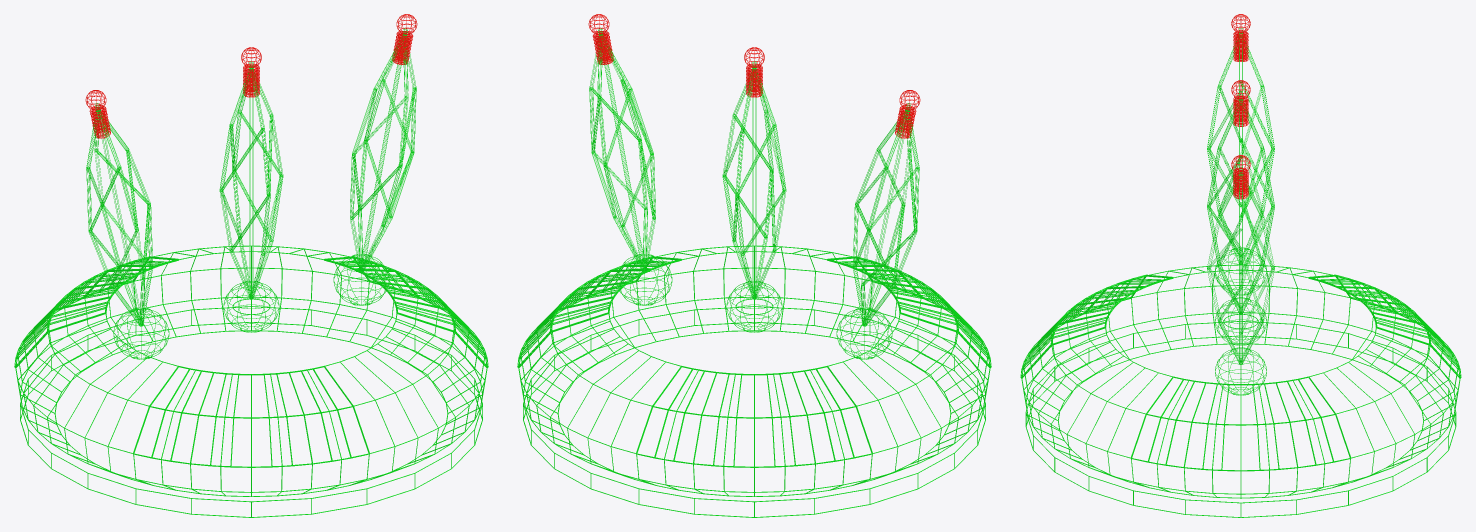
File: screen-generator-highlight-reverse-polarity-suppressers.glb
3 renders of one model, left to right at view 1: azimuth 30°, elevation 25°; view 2: azimuth 150°, elevation 25°; view 3: azimuth 270°, elevation 25°, orthographic. The views are drawn at different scales.
Parts seen in each view (by area): view 1: chassis technical wire, three-field-masts technical wire, phase-synchronising-oscillators technical wire, reverse-polarity-suppressers technical wire; view 2: chassis technical wire, three-field-masts technical wire, phase-synchronising-oscillators technical wire, reverse-polarity-suppressers technical wire; view 3: chassis technical wire, three-field-masts technical wire, phase-synchronising-oscillators technical wire, reverse-polarity-suppressers technical wire.
Part boxes in pixels (x1,y1,x2,y2): chassis technical wire: [14, 245, 488, 517]; three-field-masts technical wire: [86, 28, 416, 326]; phase-synchronising-oscillators technical wire: [113, 254, 389, 359]; reverse-polarity-suppressers technical wire: [85, 14, 417, 138]; chassis technical wire: [517, 245, 991, 517]; three-field-masts technical wire: [589, 28, 919, 326]; phase-synchronising-oscillators technical wire: [616, 254, 892, 359]; reverse-polarity-suppressers technical wire: [588, 14, 920, 138]; chassis technical wire: [1020, 264, 1461, 517]; three-field-masts technical wire: [1207, 28, 1274, 364]; phase-synchronising-oscillators technical wire: [1215, 247, 1266, 395]; reverse-polarity-suppressers technical wire: [1231, 14, 1250, 199].
Size of the model in its own units: 2.05 by 1.78 by 2.05.
